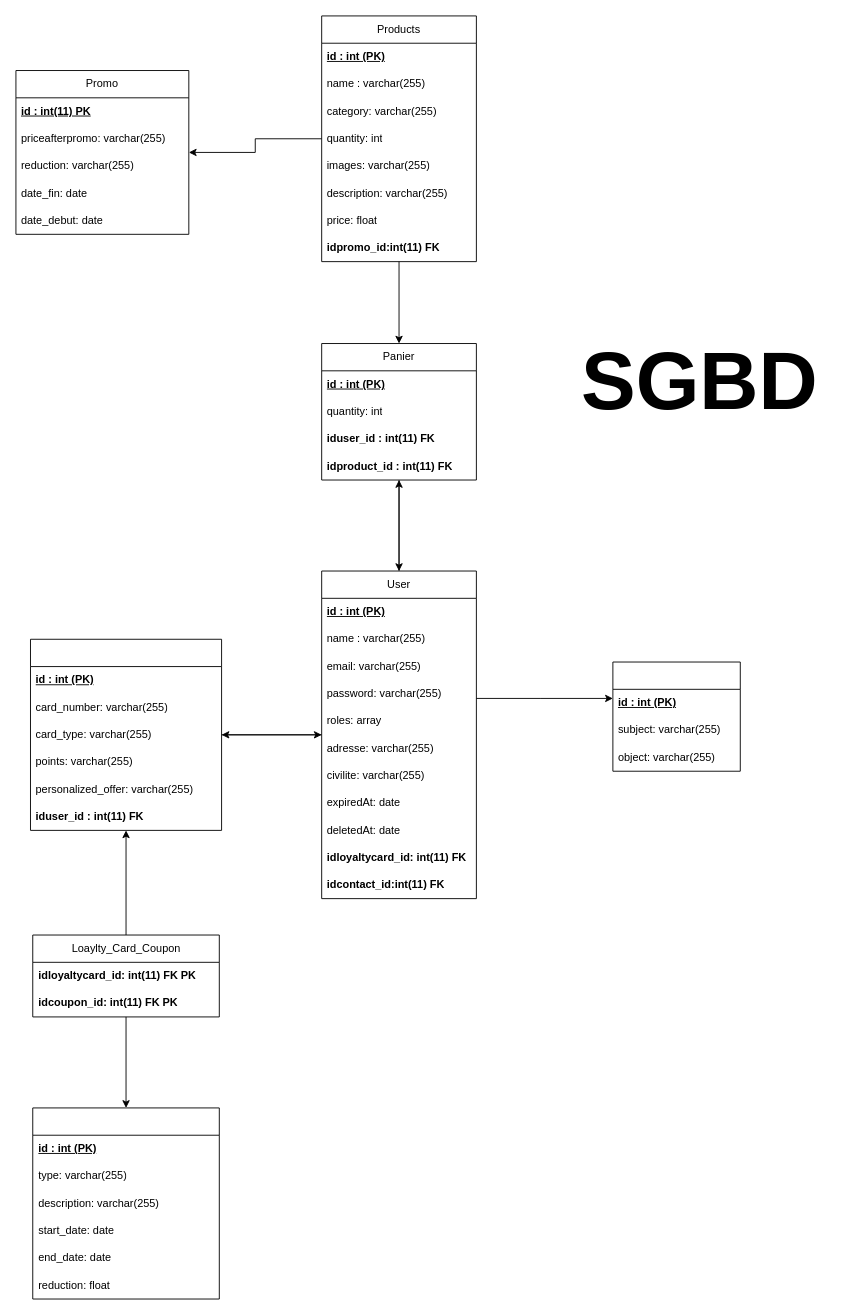
Image size: 843x1315. Some labels were removed from this diagram. Here are the shapes that lost their labels. From the top down, the box of each, then its label:
(30, 638, 222, 830): LoyaltyCard
(612, 661, 740, 771): Contact
(32, 1107, 219, 1299): Coupon
